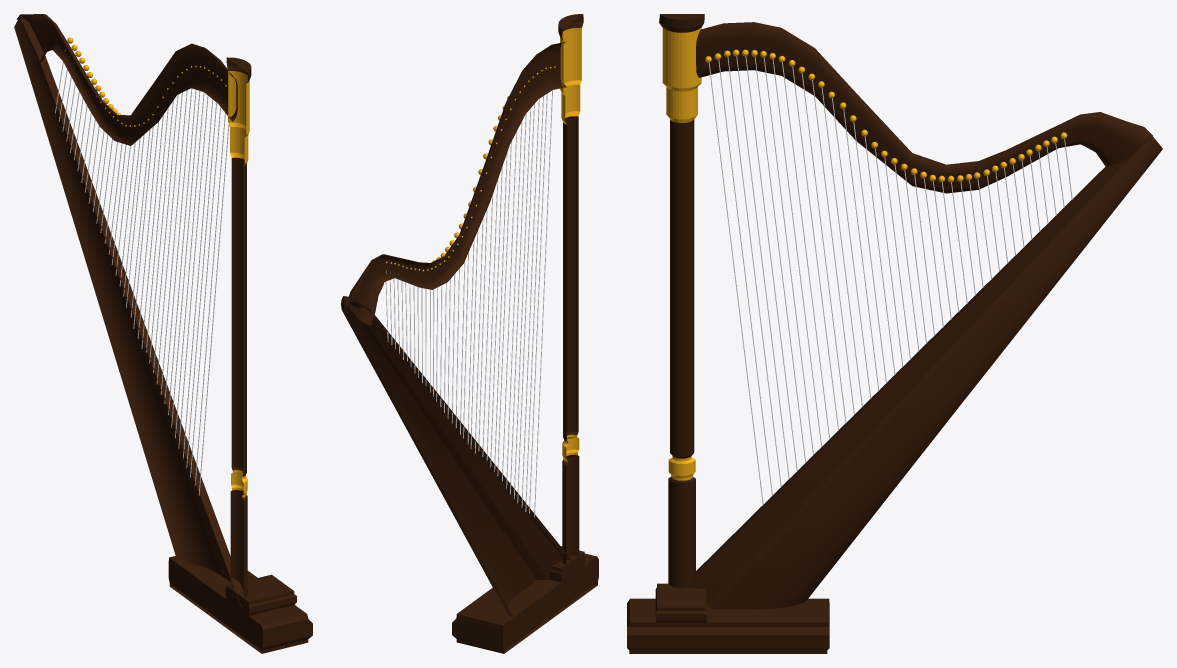
The model's file is harp.gltf.
3 views of the same model, side by side, from view 1: azimuth 30°, elevation 25°; view 2: azimuth 150°, elevation 25°; view 3: azimuth 270°, elevation 25° (orthographic). The views are drawn at different scales.
Parts seen in each view (by area): view 1: Pezzo obliquo, Base, Ropes, Pezzo curvo, Spheres; view 2: Pezzo obliquo, Base, Ropes, Pezzo curvo, Spheres; view 3: Pezzo obliquo, Base, Pezzo curvo, Ropes, Spheres.
Boxes of the visible parts, x1=… form: Pezzo obliquo: x1=14, y1=18, x2=243, y2=611; Base: x1=168, y1=57, x2=312, y2=653; Ropes: x1=55, y1=49, x2=229, y2=495; Pezzo curvo: x1=16, y1=14, x2=237, y2=145; Spheres: x1=67, y1=37, x2=226, y2=126; Pezzo obliquo: x1=341, y1=296, x2=578, y2=617; Base: x1=452, y1=14, x2=598, y2=653; Ropes: x1=385, y1=90, x2=552, y2=517; Pezzo curvo: x1=348, y1=41, x2=566, y2=325; Spheres: x1=386, y1=66, x2=555, y2=271; Pezzo obliquo: x1=688, y1=134, x2=1162, y2=609; Base: x1=627, y1=14, x2=829, y2=653; Pezzo curvo: x1=696, y1=22, x2=1152, y2=193; Ropes: x1=708, y1=56, x2=1072, y2=504; Spheres: x1=705, y1=49, x2=1067, y2=182.
Size of the model in its own units: 1.13 by 11.7 by 9.23.
